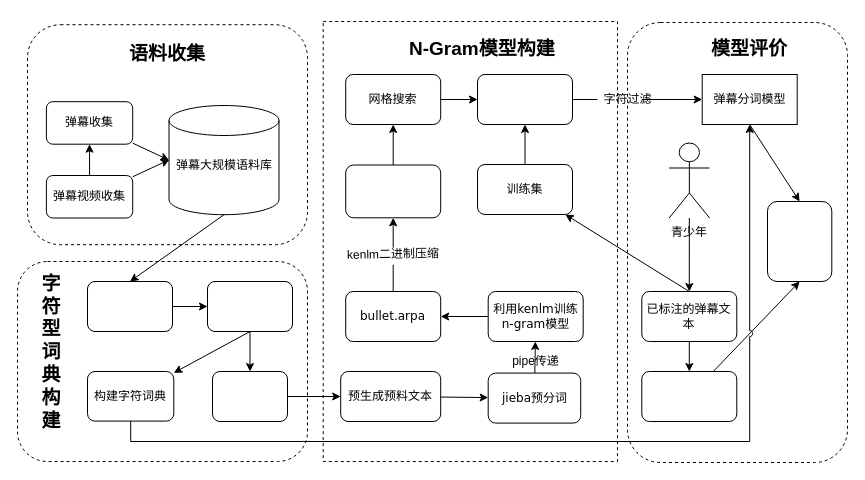
Image size: 865x480. Some labels were removed from this diagram. The shapes that lost their labels are listed below. From the top down, each one's box as (x1, y1, x2, y2) in pixels, then its label:
(476, 74, 572, 124): viterbi算法求最短路径
(345, 164, 441, 218): bullet.klm
(766, 200, 832, 282): 查全率 查准率 F1
(86, 280, 172, 332): 弹幕文本语料提取
(206, 280, 292, 332): 非中英文字符提取
(212, 370, 288, 422): 语料繁简转换
(641, 370, 737, 422): 测试集
